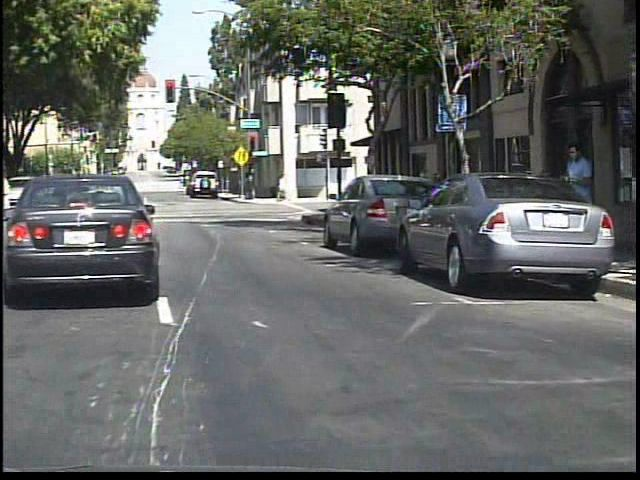person: (557, 139, 597, 256), (16, 174, 37, 209), (2, 175, 19, 211)
